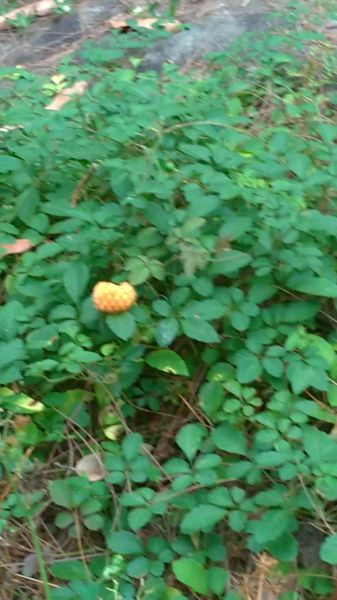eggs: (80, 276, 142, 315)
